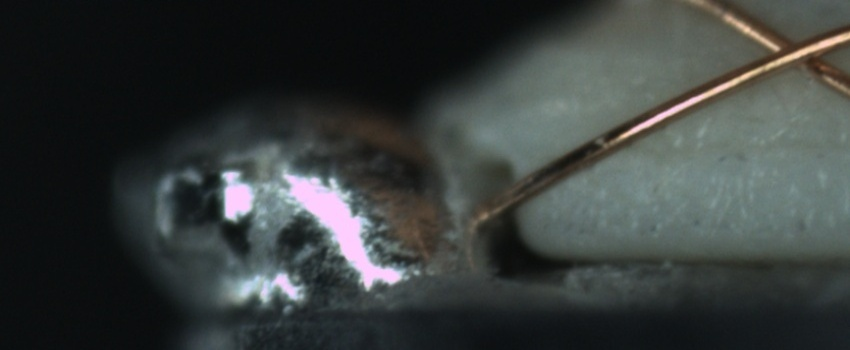CL: (738, 14, 844, 84)
DL: (618, 114, 849, 179)
